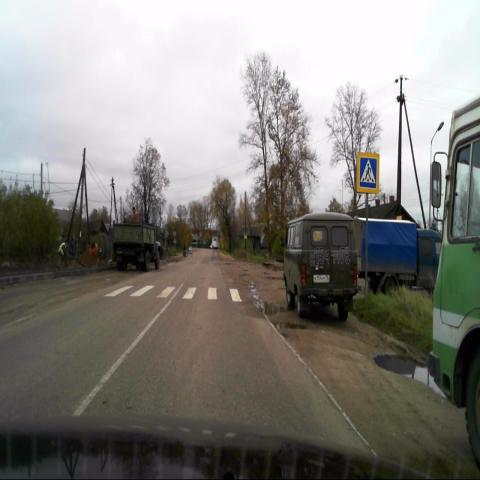5_19_1: (357, 154, 380, 194)
